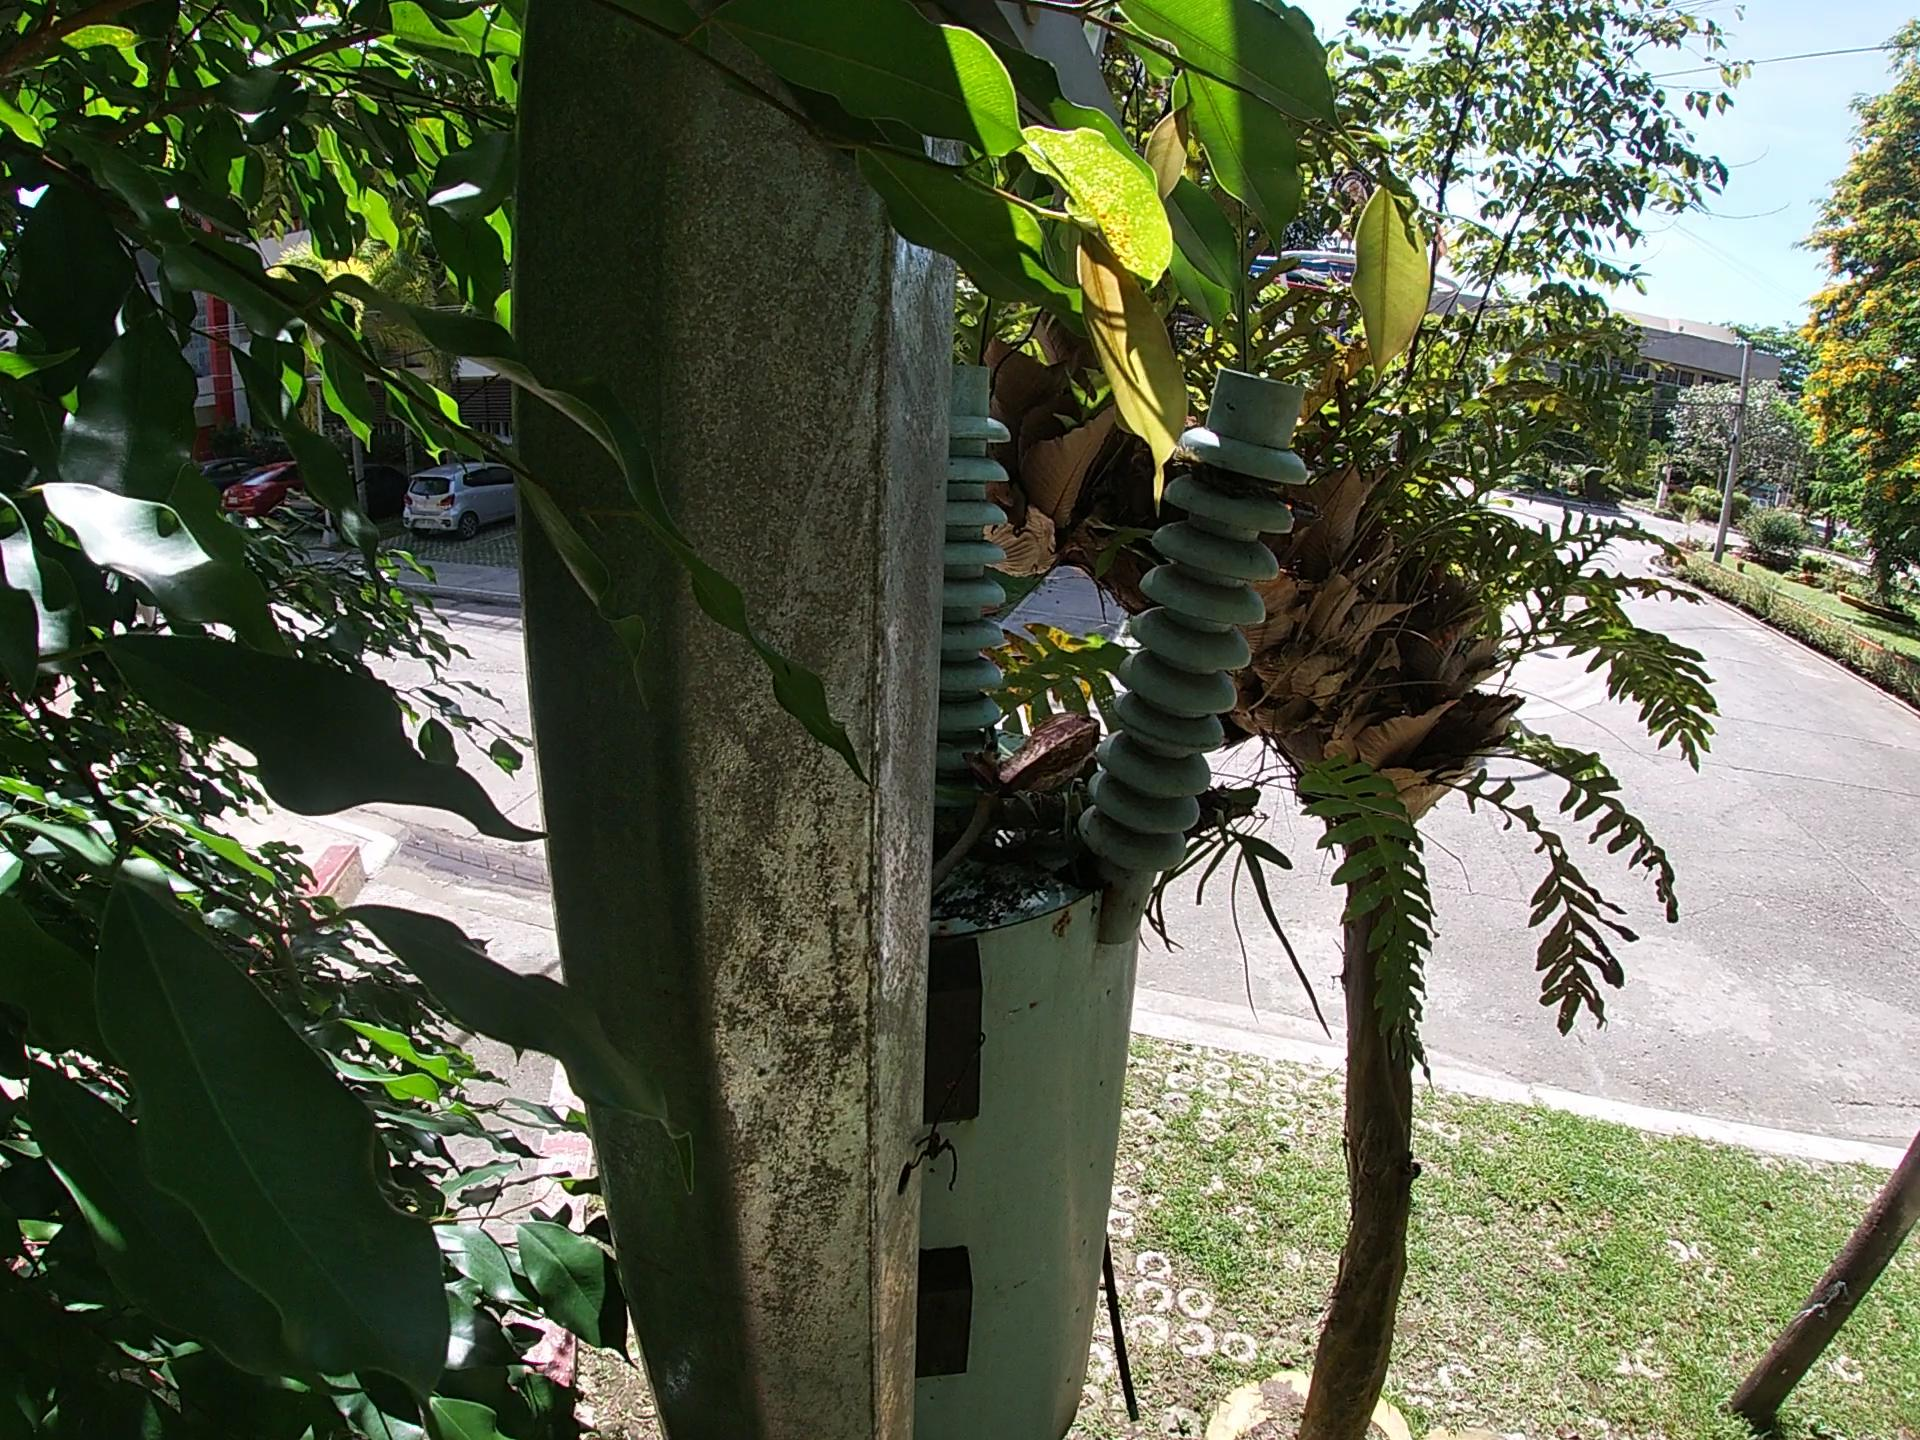branch with leaves: (1008, 744, 1293, 855)
mahogany fruit: (940, 709, 1085, 830)
tree branch: (918, 781, 1028, 924)
